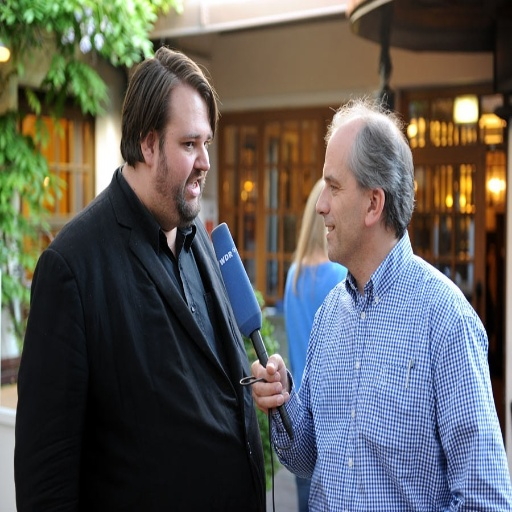hand: (249, 351, 291, 414)
